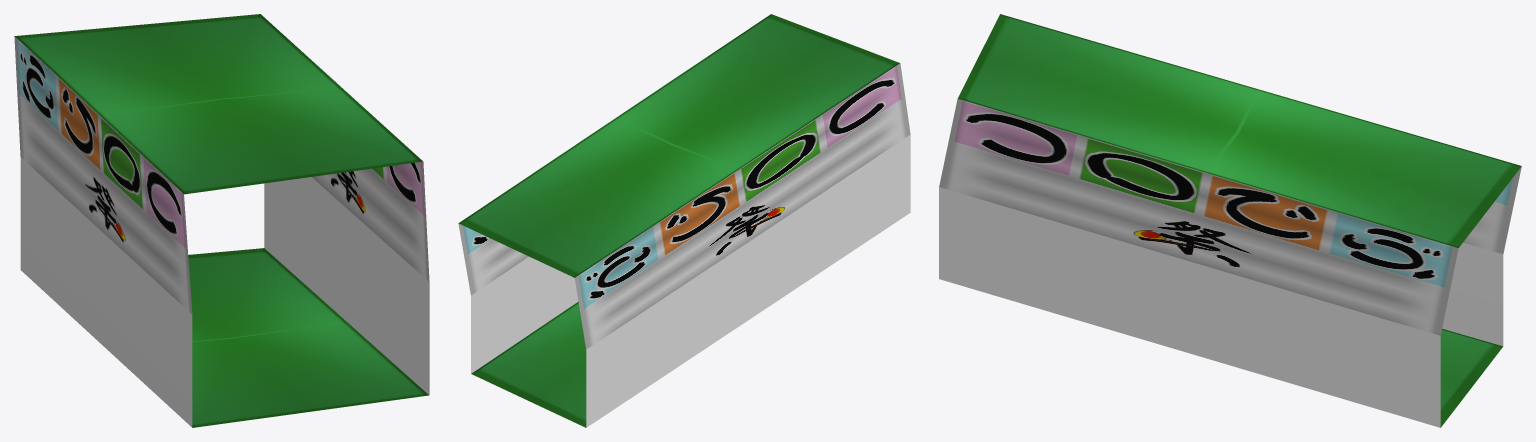
The picture shows the model from 3 angles, left to right: view 1: azimuth 30°, elevation 25°; view 2: azimuth 150°, elevation 25°; view 3: azimuth 270°, elevation 25°; orthographic projection. The views are drawn at different scales.
Visible parts, largest first — view 1: polySurface95; view 2: polySurface95; view 3: polySurface95.
Boxes of the visible parts, left/top/right/bottom form: polySurface95: left=14, top=14, right=429, bottom=427; polySurface95: left=458, top=14, right=910, bottom=427; polySurface95: left=939, top=14, right=1521, bottom=427.
Size of the model in its own units: 3.34 by 2.98 by 5.74.
